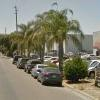Palm tree: (23, 10, 78, 63)
